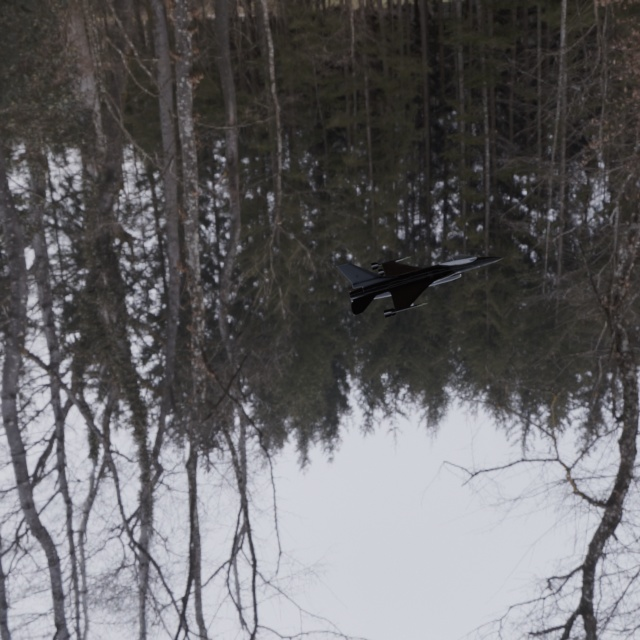model: (332, 203, 525, 333)
